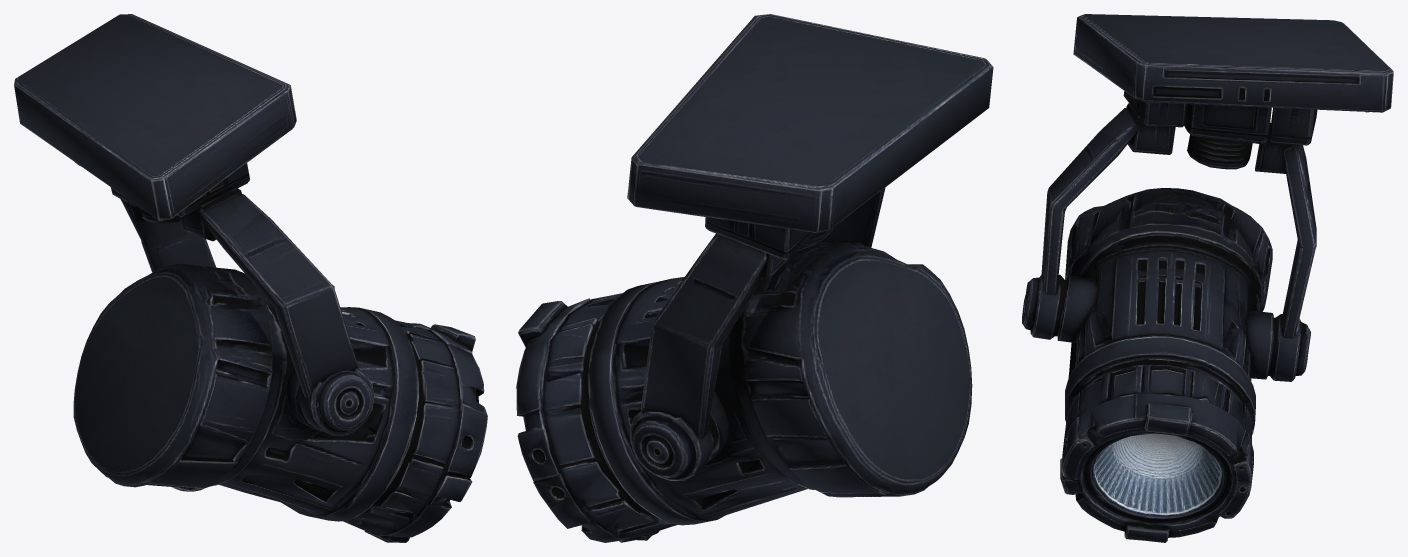
The model's file is sci-fi-stargate-props-spotlight-ceiling-light.glb.
3 renders of one model, left to right at view 1: azimuth 30°, elevation 25°; view 2: azimuth 150°, elevation 25°; view 3: azimuth 270°, elevation 25°, orthographic. The views are drawn at different scales.
Visible parts, largest first — view 1: Spotlight Ceiling Light; view 2: Spotlight Ceiling Light; view 3: Spotlight Ceiling Light.
Boxes of the visible parts, x1=… form: Spotlight Ceiling Light: x1=14, y1=14, x2=487, y2=542; Spotlight Ceiling Light: x1=516, y1=14, x2=993, y2=542; Spotlight Ceiling Light: x1=1022, y1=14, x2=1393, y2=542.
Bounding box in the file's own units: 0.7871 × 0.998 × 0.7793.
Materials: 1 (1 with a texture image).
